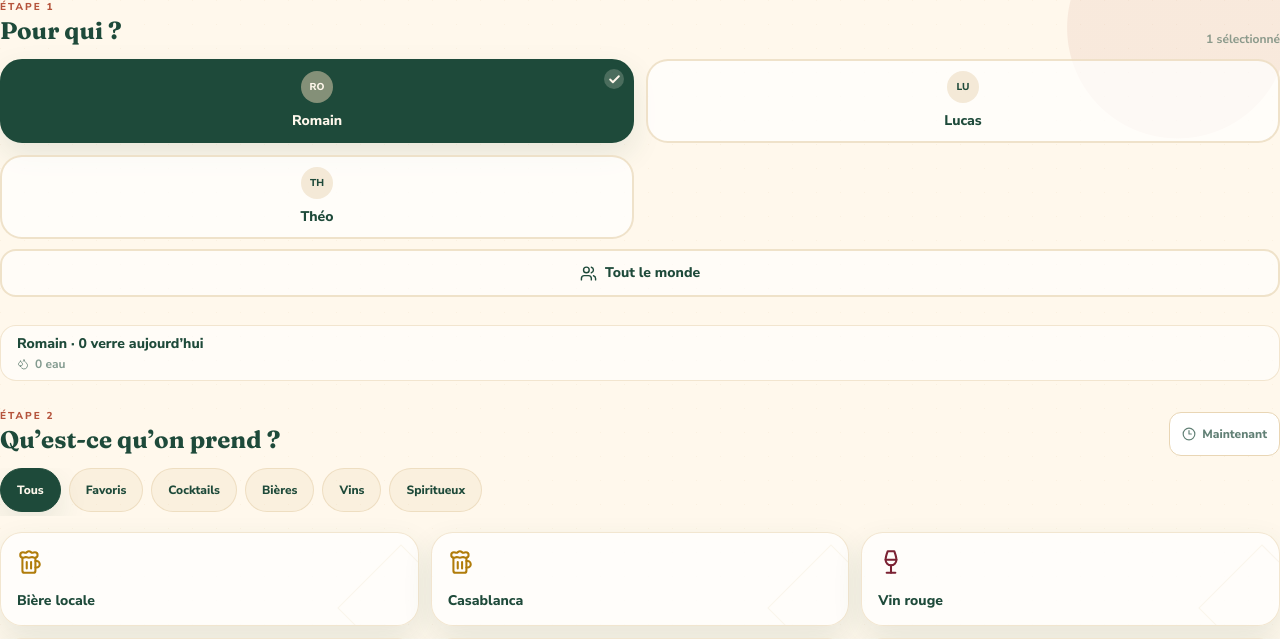
Test case: filtres de catégories › n’affiche que des cocktails avec le filtre Cocktails
The width and height of the screenshot is (1280, 639).
Click the button "Cocktails": (194, 490) [151,468,237,512]
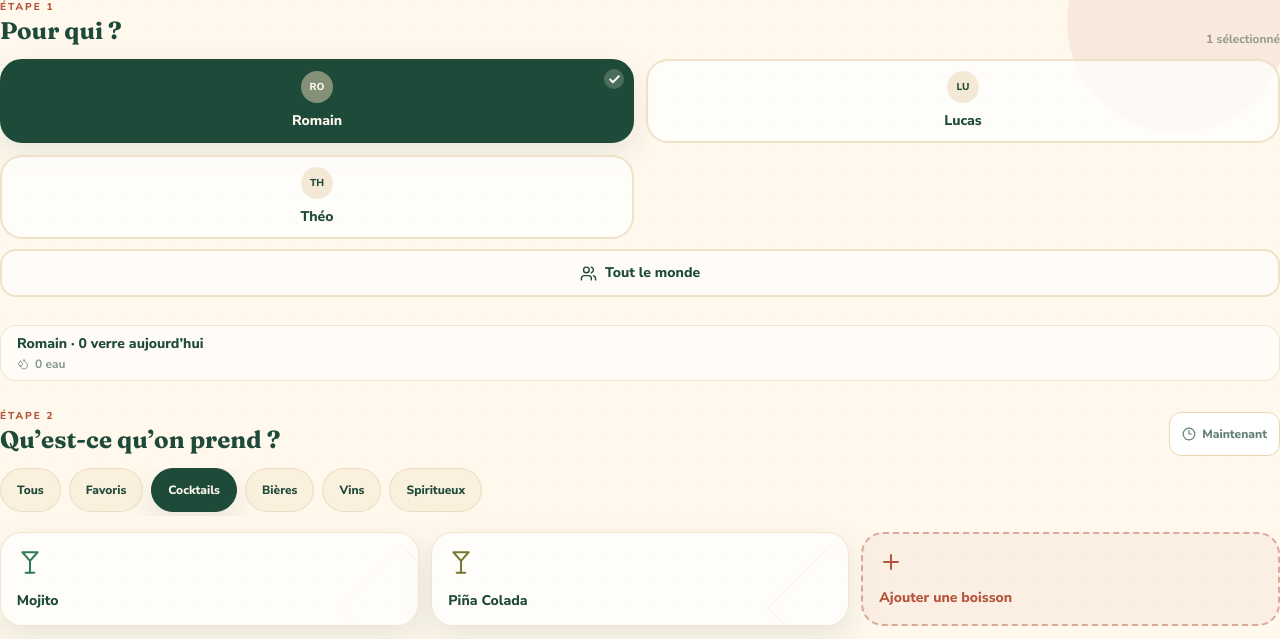
expect the button "Bière locale" is gone: met
expect the button "Vin rouge" is gone: met
